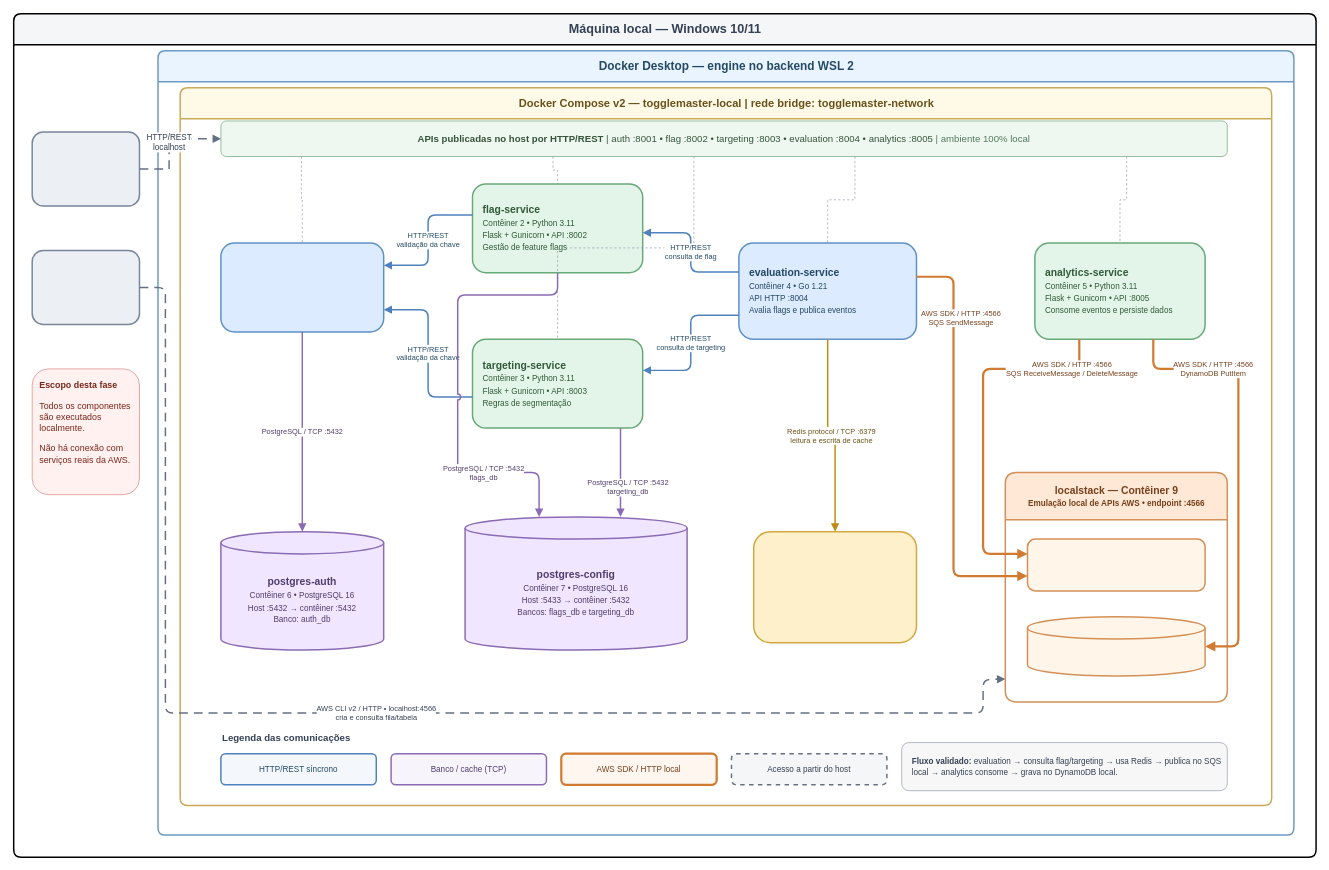
Image size: 1329x870. Some labels were removed from this diagram. Each missing label, with the centre of its shape:
"Amazon DynamoDB (local) Tabela: ToggleMasterAnalytics" goes at (x=1115, y=646).
"Amazon SQS (local) Fila: togglemaster-events" goes at (x=1115, y=564).
"auth-service Contêiner 1 • Go 1.21 API HTTP :8001 Autenticação e chaves de API" goes at (x=302, y=287).
"AWS CLI v2 Criação e inspeção locais" goes at (x=85, y=287).
"Postman / curl Chamadas funcionais e /health" goes at (x=85, y=168).
"redis Contêiner 8 • Redis 7.2 TCP :6379 Cache das avaliações" goes at (x=835, y=587).
